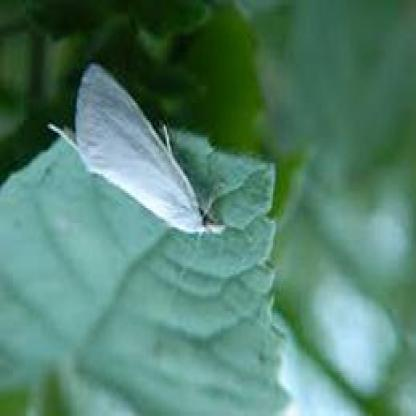stem-borer: (45, 59, 227, 239)
